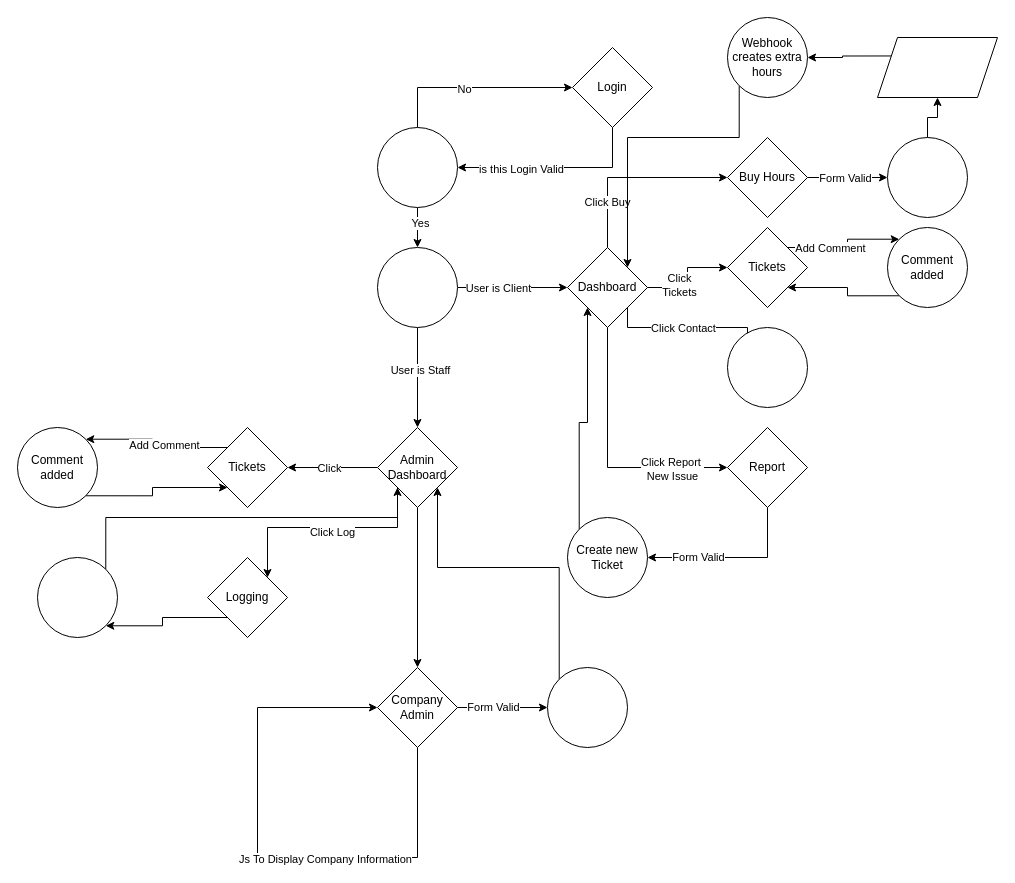
This 1015x883 diagram has some shape labels left out. The shapes that lost their labels are listed below. From the top down, each one's box as (x1, y1, x2, y2) in pixels, then its label:
(876, 36, 998, 98): Stripe
(376, 126, 458, 208): Python checks DB
(886, 136, 968, 218): Create Stripe Session
(376, 246, 458, 328): Python gets linked company
(726, 326, 808, 408): Calls ExtraMile
(36, 556, 118, 638): Time updated
(546, 666, 628, 748): Company or Client Created
